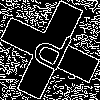P: (25, 25, 75, 81)
